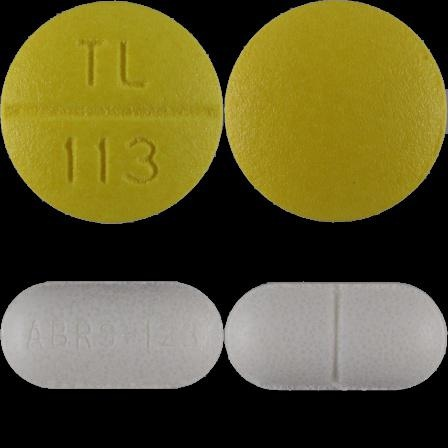68788-6766: (0, 0, 224, 224)
